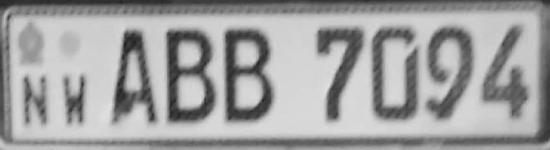0: (365, 19, 424, 124)
4: (477, 19, 535, 126)
7: (307, 20, 367, 127)
9: (422, 18, 477, 128)
A: (106, 23, 161, 130)
B: (218, 20, 280, 132), (165, 20, 218, 128)
N: (20, 70, 52, 130)
W: (58, 70, 90, 129)
